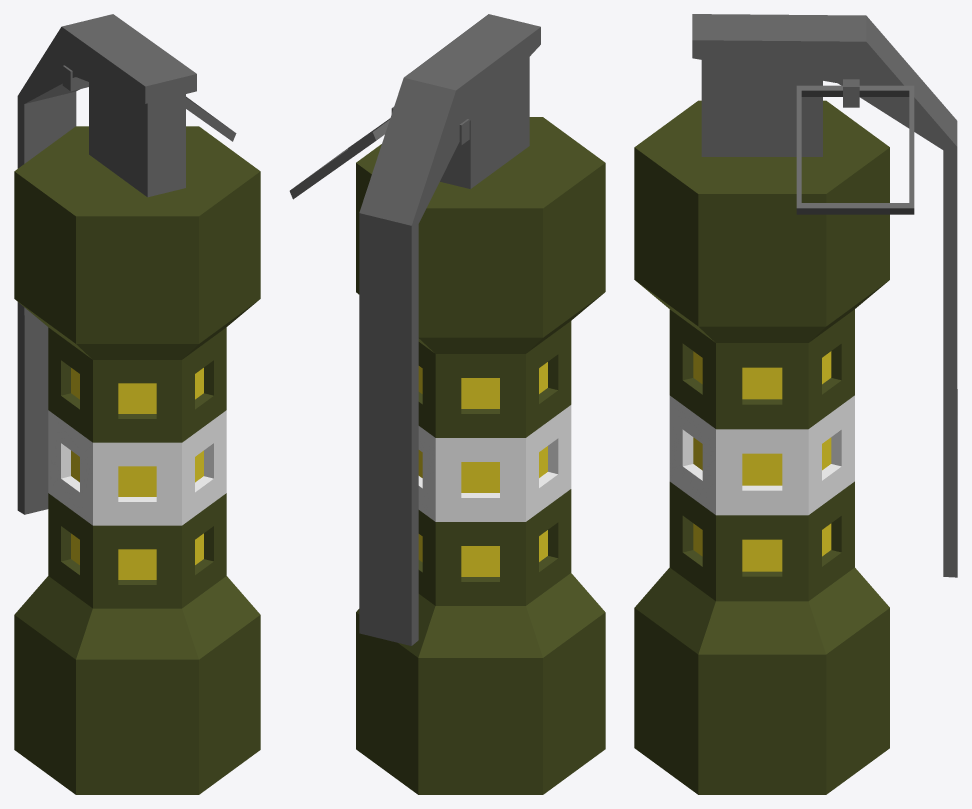
Rendered from Grenade_Flashbang_M84.fbx.
The picture shows the model from 3 angles, left to right: view 1: azimuth 30°, elevation 25°; view 2: azimuth 150°, elevation 25°; view 3: azimuth 270°, elevation 25°; orthographic projection. The views are drawn at different scales.
Parts seen in each view (by area): view 1: Grenade_Flashbang_M84; view 2: Grenade_Flashbang_M84; view 3: Grenade_Flashbang_M84.
Part boxes in pixels (left/top/right/bottom): Grenade_Flashbang_M84: left=14, top=14, right=260, bottom=794; Grenade_Flashbang_M84: left=289, top=14, right=605, bottom=794; Grenade_Flashbang_M84: left=634, top=14, right=957, bottom=794.
Bounding box in the file's own units: 3.9 × 12.46 × 5.06.
